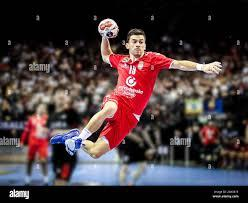ballon_handball: (96, 18, 119, 39)
